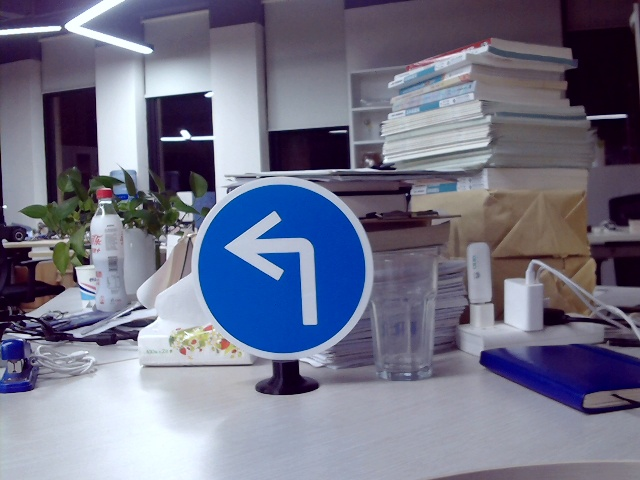turn_left: (218, 208, 324, 327)
